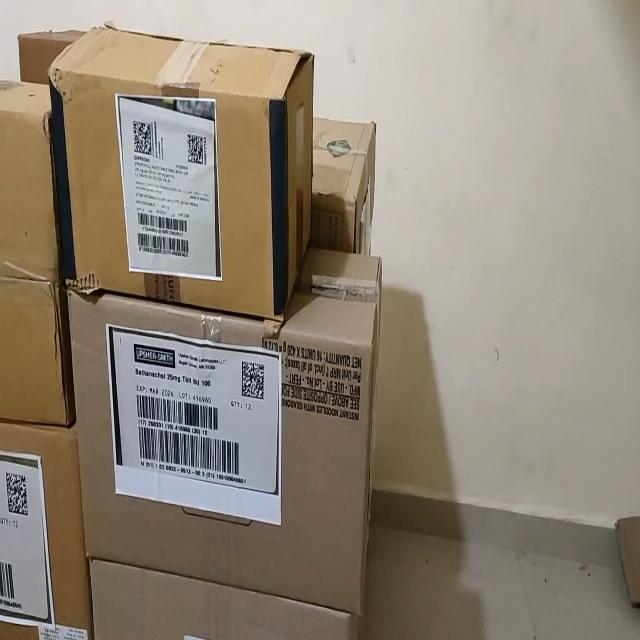BoxFace: (62, 279, 374, 619), (47, 66, 287, 322)
